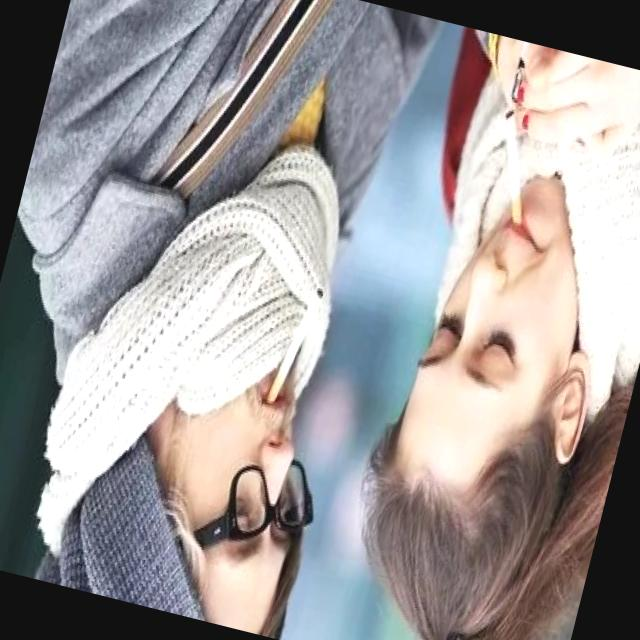smoke: (474, 97, 552, 229), (262, 272, 328, 414)
